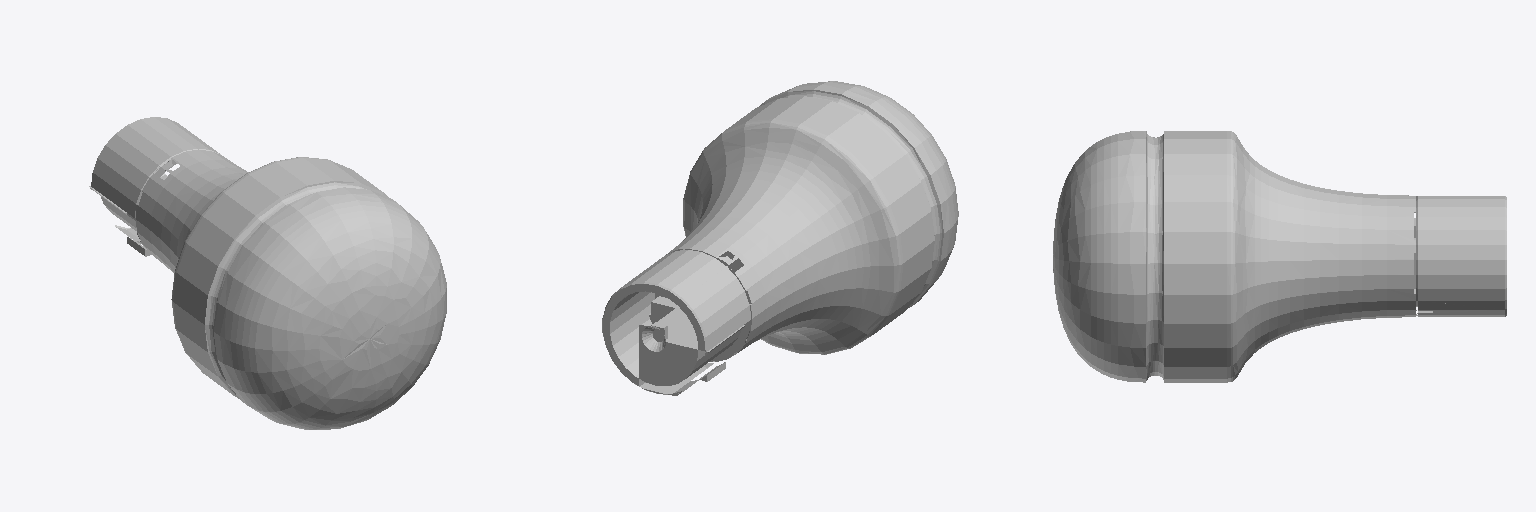
File: tinker.obj
3 views of the same model, side by side, from view 1: azimuth 30°, elevation 25°; view 2: azimuth 150°, elevation 25°; view 3: azimuth 270°, elevation 25° (orthographic).
Visible parts, largest first — view 1: obj_0.016; view 2: obj_0.016; view 3: obj_0.016.
Boxes of the visible parts, x1=… form: obj_0.016: x1=89, y1=117, x2=446, y2=429; obj_0.016: x1=602, y1=81, x2=958, y2=395; obj_0.016: x1=1053, y1=131, x2=1506, y2=382.
Bounding box in the file's own units: 2.5 × 2.5 × 4.5.